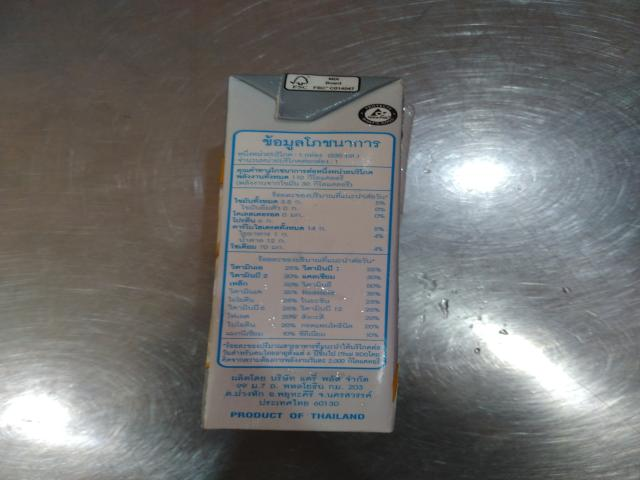drink_box: (176, 56, 431, 444)
